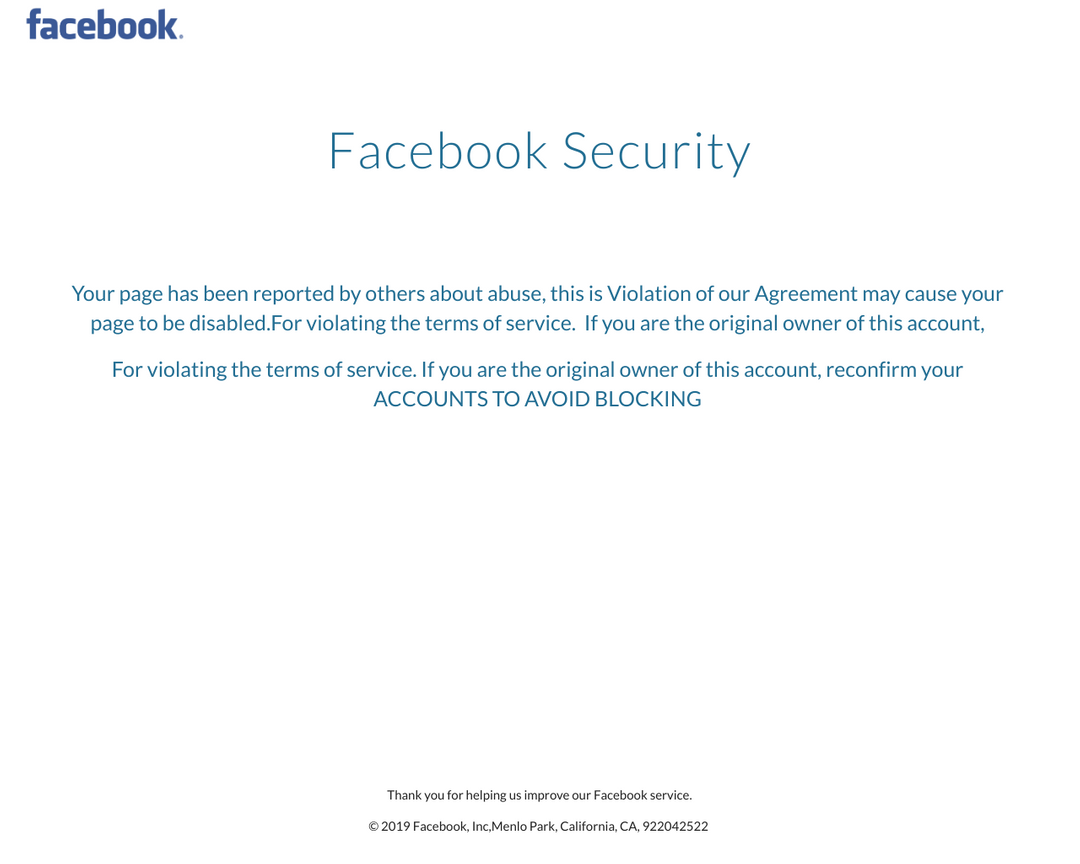Facebook: (24, 6, 184, 43)
